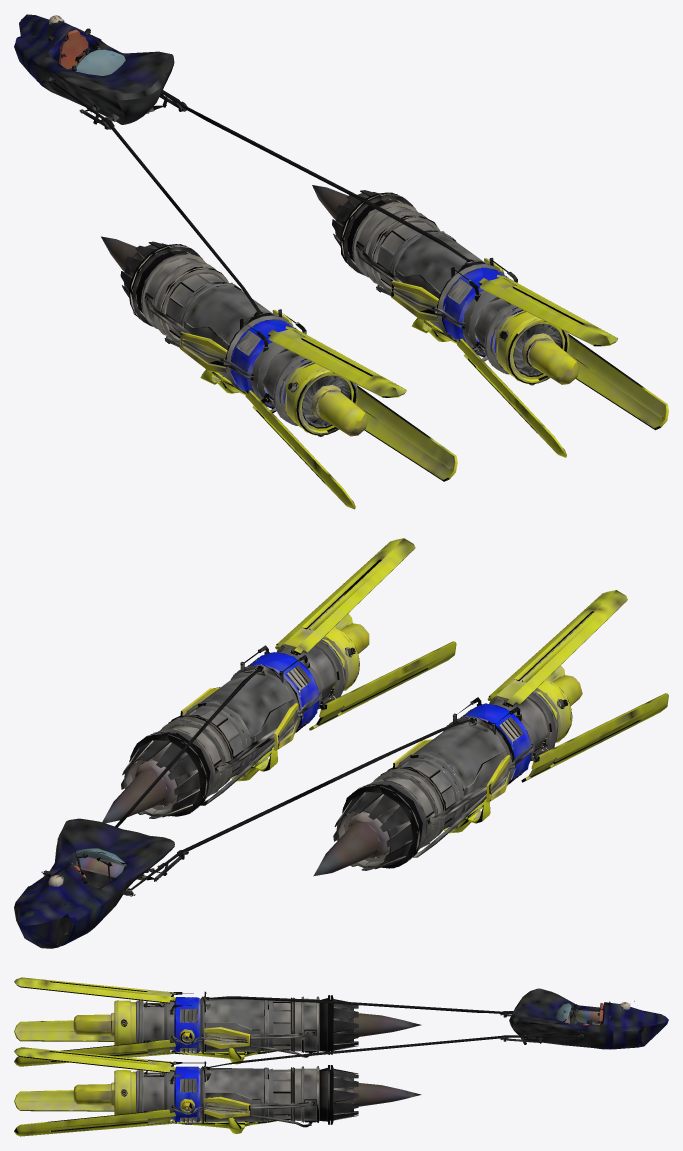
File: skybolt-rival-v1.glb
3 renders of one model, top to bottom at view 1: azimuth 30°, elevation 25°; view 2: azimuth 150°, elevation 25°; view 3: azimuth 270°, elevation 25°, orthographic. The views are drawn at different scales.
Parts seen in each view (by area): view 1: skybolt-body-0; view 2: skybolt-body-0; view 3: skybolt-body-0.
Part boxes in pixels (x1,y1,x2,y2): skybolt-body-0: (14, 14, 668, 509); skybolt-body-0: (14, 538, 668, 948); skybolt-body-0: (14, 977, 668, 1136).
Size of the model in its own units: 9.33 by 3.88 by 23.99.
Materials: 7 (7 with a texture image).
